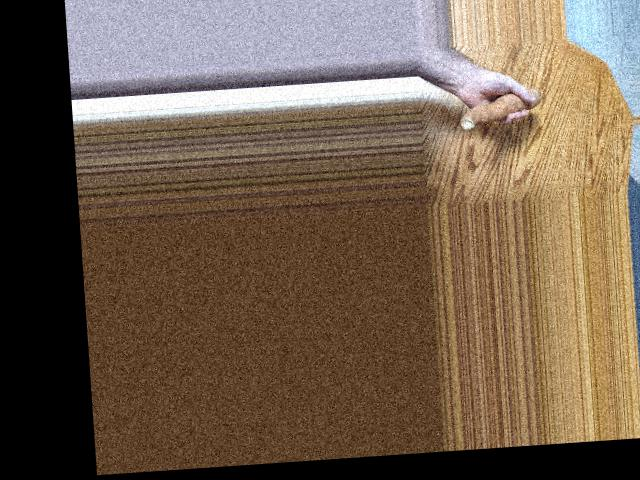sweet_potato: (453, 89, 546, 129)
